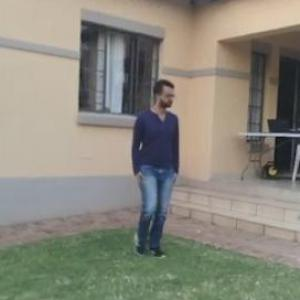follow: (128, 71, 187, 268)
